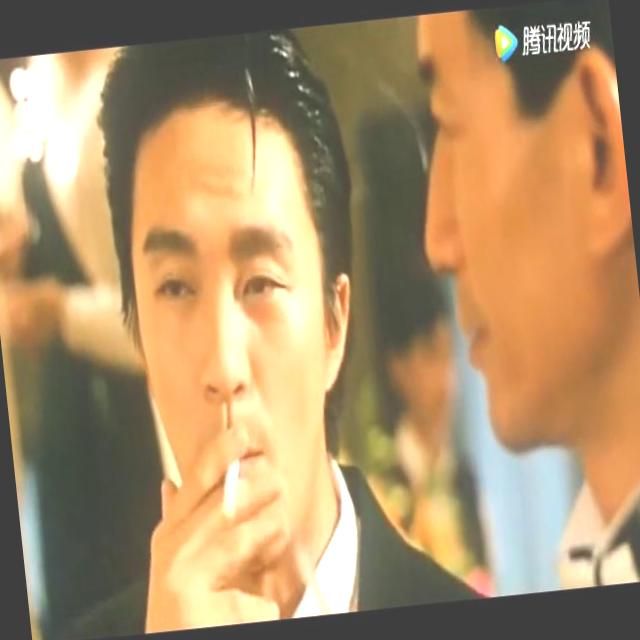cigarette: (209, 437, 250, 540)
